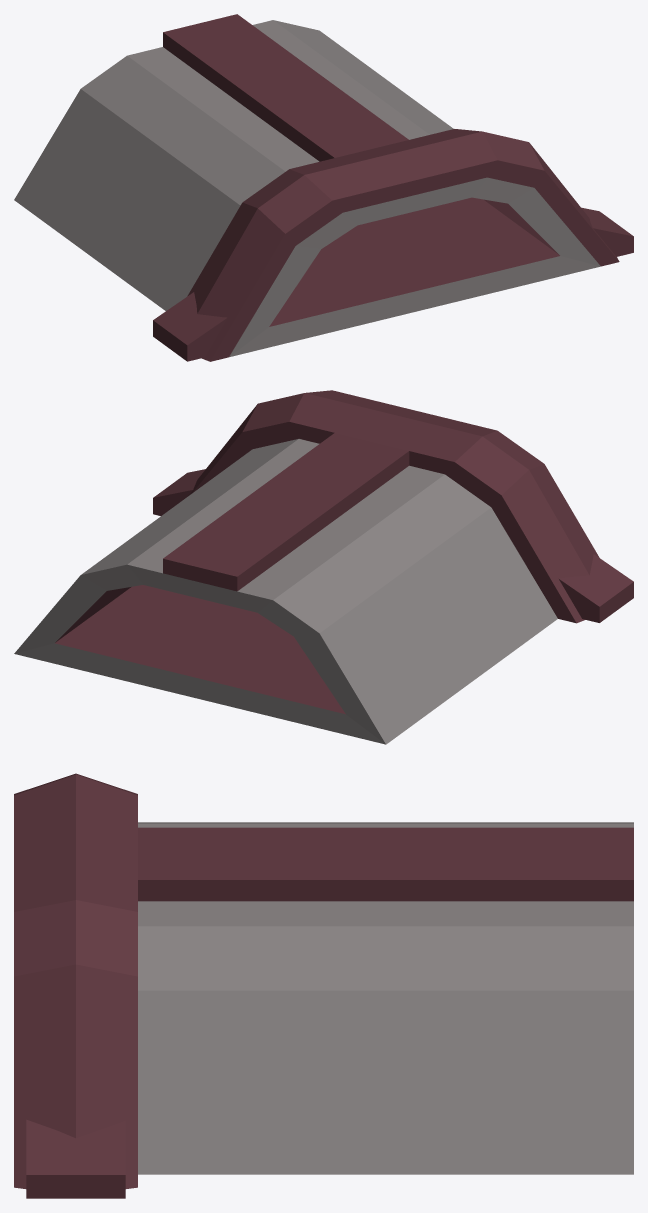
Rendered from scifi-vent-short.fbx.
The picture shows the model from 3 angles, top to bottom: view 1: azimuth 30°, elevation 25°; view 2: azimuth 150°, elevation 25°; view 3: azimuth 270°, elevation 25°; orthographic projection. The views are drawn at different scales.
Parts seen in each view (by area): view 1: scifi-vent-short; view 2: scifi-vent-short; view 3: scifi-vent-short.
Part boxes in pixels (left/top/right/bottom): scifi-vent-short: left=14, top=14, right=633, bottom=361; scifi-vent-short: left=14, top=390, right=633, bottom=744; scifi-vent-short: left=14, top=773, right=633, bottom=1198.
Bounding box in the file's own units: 1.2 × 0.3671 × 1.
